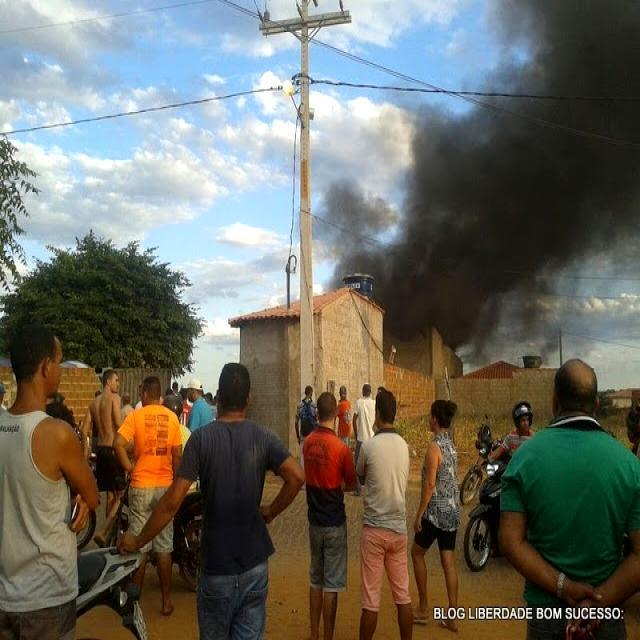Smoke: (360, 0, 640, 333)
